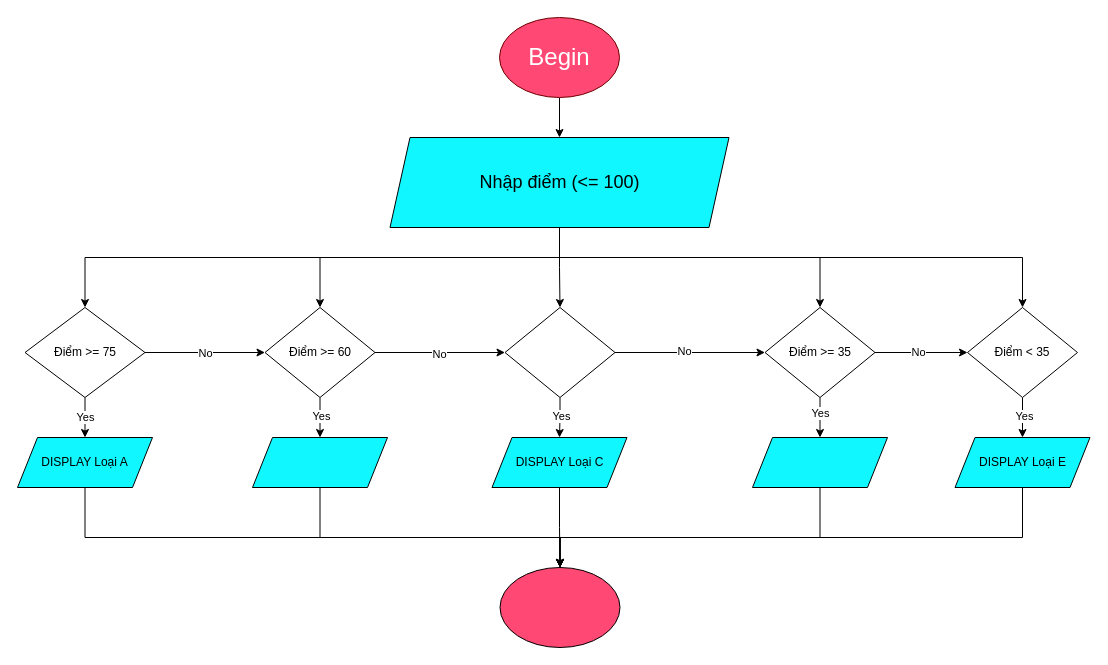
The diagram is 1108 pixels wide and 665 high, and some of its shapes have lost their labels. Here are the shapes that lost their labels. From the top down, the centre of each, then its label:
pixel 559 352: Điểm >= 45
pixel 320 462: DISPLAY Loại B
pixel 820 462: DISPLAY Loại D
pixel 559 607: End
